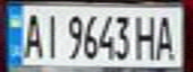3: (112, 11, 136, 61)
4: (97, 11, 118, 61)
6: (81, 11, 100, 61)
9: (60, 11, 84, 60)
A: (151, 11, 181, 61), (18, 9, 45, 60)
H: (133, 11, 160, 61)
I: (39, 9, 63, 60)
